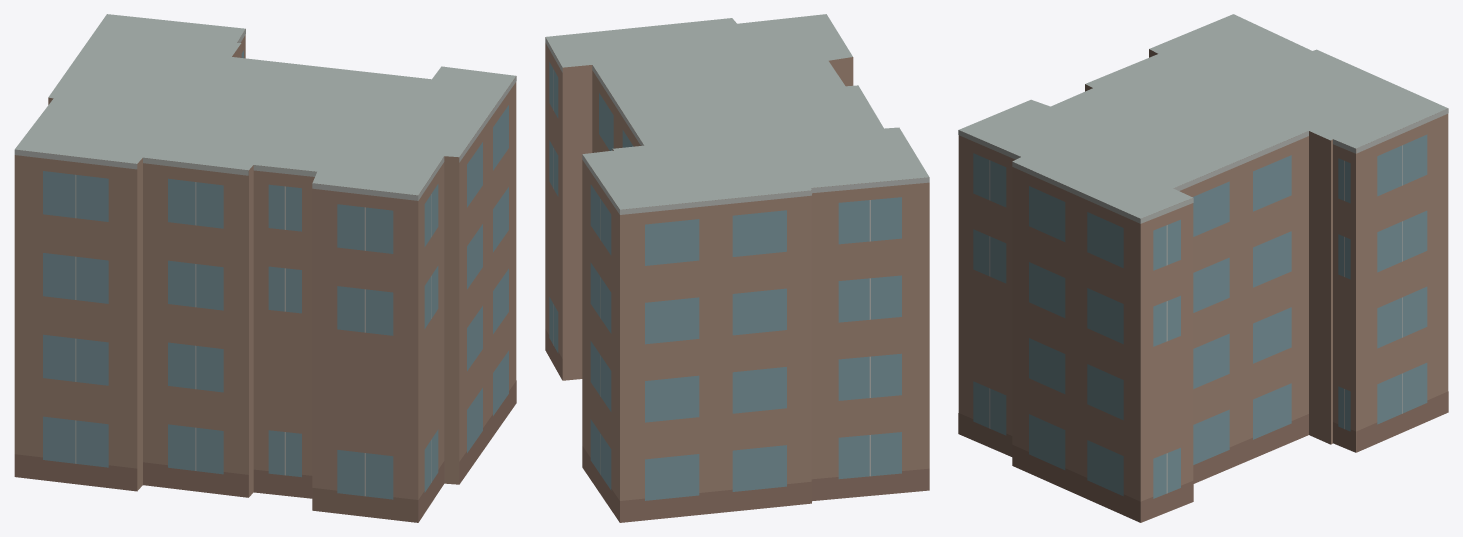
Rendered from survey-upis-32772398.glb.
The picture shows the model from 3 angles, left to right: view 1: azimuth 30°, elevation 25°; view 2: azimuth 150°, elevation 25°; view 3: azimuth 270°, elevation 25°; orthographic projection. The views are drawn at different scales.
Visible parts, largest first — view 1: survey-upis-32772398.tmp; view 2: survey-upis-32772398.tmp; view 3: survey-upis-32772398.tmp.
Boxes of the visible parts, x1,y1,x2,y2 form: survey-upis-32772398.tmp: (14, 14, 516, 522); survey-upis-32772398.tmp: (545, 14, 929, 522); survey-upis-32772398.tmp: (958, 14, 1448, 522).
Bounding box in the file's own units: 20.8 × 14.4 × 21.03.
